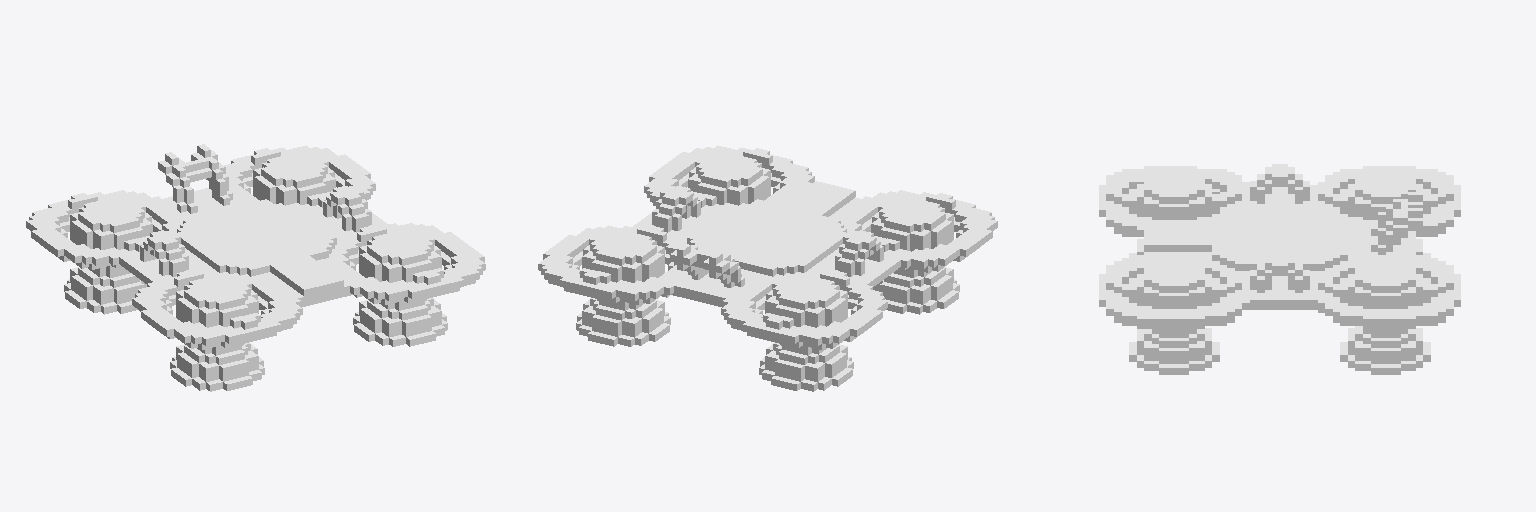
File: spaceshipPlateform.obj
The picture shows the model from 3 angles: view 1: azimuth 30°, elevation 25°; view 2: azimuth 150°, elevation 25°; view 3: azimuth 270°, elevation 25°; orthographic projection.
Visible parts, largest first — view 1: object 1; view 2: object 1; view 3: object 1.
Part boxes in pixels (left/top/right/bottom): object 1: left=26, top=144, right=485, bottom=391; object 1: left=538, top=145, right=997, bottom=391; object 1: left=1099, top=164, right=1460, bottom=374.
Bounding box in the file's own units: 4.8 × 1.6 × 4.8.